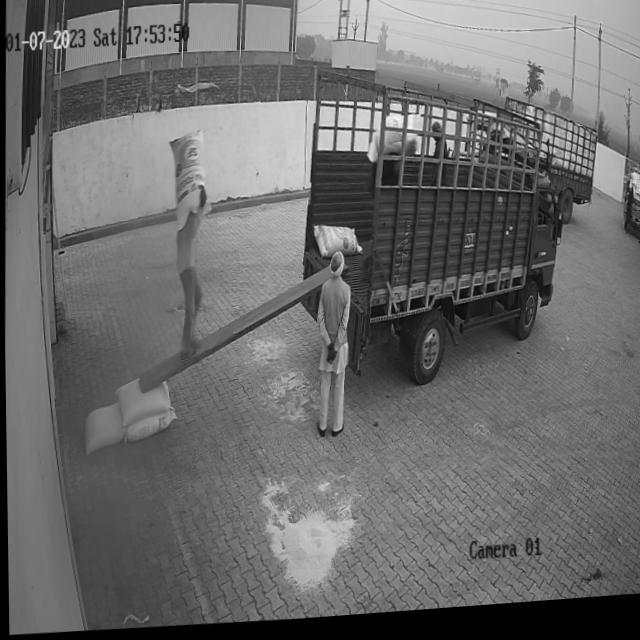sack: (168, 129, 206, 234), (114, 378, 168, 429), (81, 402, 122, 457), (310, 225, 361, 265), (123, 411, 174, 443)
